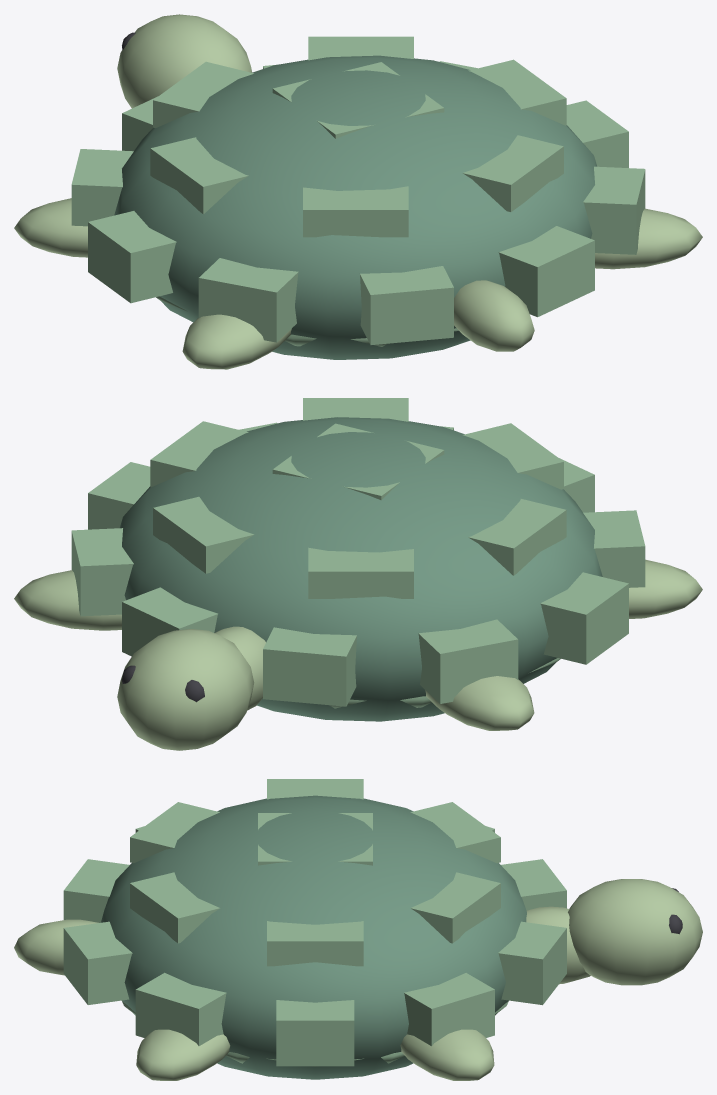
File: turtle_giant.fbx
3 renders of one model, top to bottom at view 1: azimuth 30°, elevation 25°; view 2: azimuth 150°, elevation 25°; view 3: azimuth 270°, elevation 25°, orthographic. The views are drawn at different scales.
Parts seen in each view (by area): view 1: Turtle; view 2: Turtle; view 3: Turtle.
Part boxes in pixels (box(x1,y1,x2,y2)): Turtle: box(14, 14, 702, 369); Turtle: box(14, 398, 702, 750); Turtle: box(14, 779, 702, 1080).
Bounding box in the file's own units: 4.67 × 2 × 5.99.
